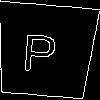P: (20, 25, 59, 73)
